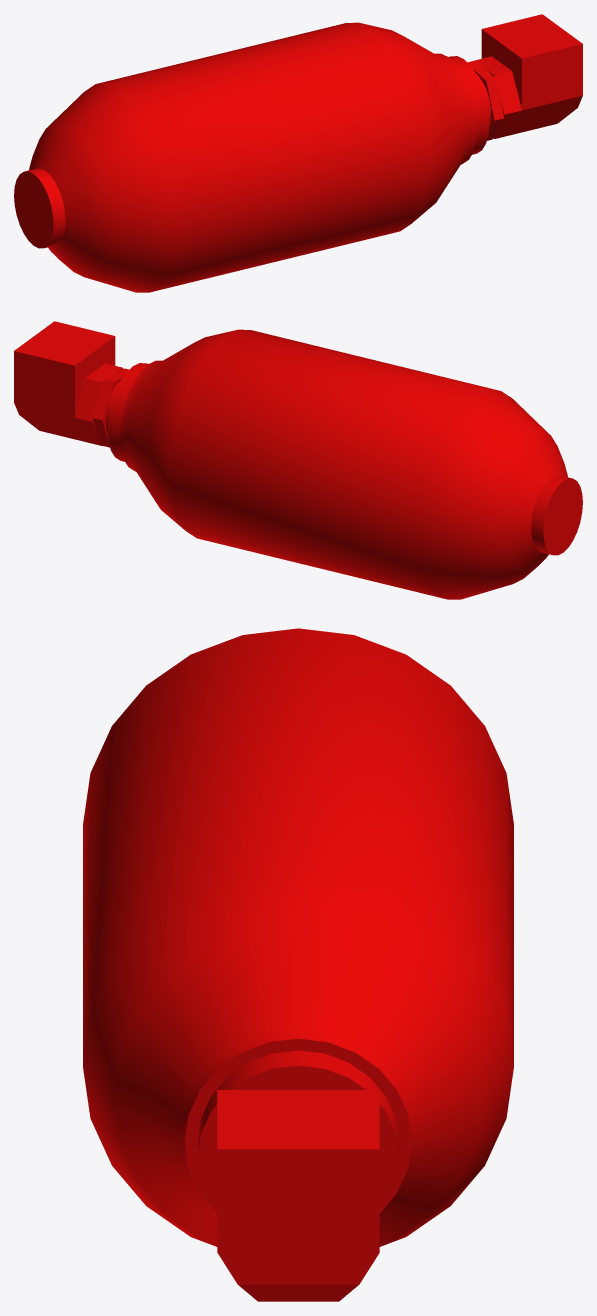
File: rafale_highlight_13_c1.fbx
3 renders of one model, top to bottom at view 1: azimuth 30°, elevation 25°; view 2: azimuth 150°, elevation 25°; view 3: azimuth 270°, elevation 25°, orthographic. The views are drawn at different scales.
Parts seen in each view (by area): view 1: rafale_highlight_13_c1; view 2: rafale_highlight_13_c1; view 3: rafale_highlight_13_c1.
Boxes of the visible parts, bbox=[...] form: rafale_highlight_13_c1: bbox=[14, 14, 582, 292]; rafale_highlight_13_c1: bbox=[14, 321, 582, 599]; rafale_highlight_13_c1: bbox=[83, 628, 513, 1301].
Bounding box in the file's own units: 13.85 × 4.88 × 4.88.
